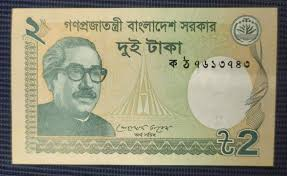2_taka: (25, 17, 263, 157)
